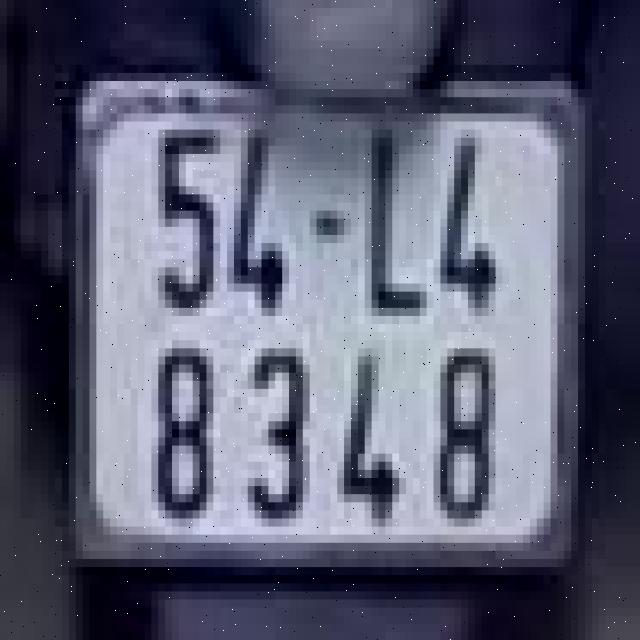3: (248, 340, 316, 535)
4: (344, 340, 406, 535), (227, 118, 282, 336), (434, 122, 482, 300)
5: (145, 113, 220, 324)
8: (141, 328, 217, 539), (433, 336, 502, 531)
L: (358, 118, 433, 328)
